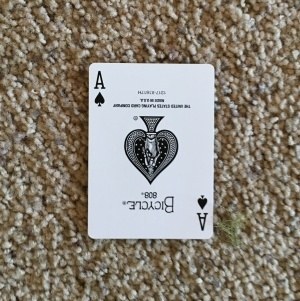card: (86, 61, 214, 240)
